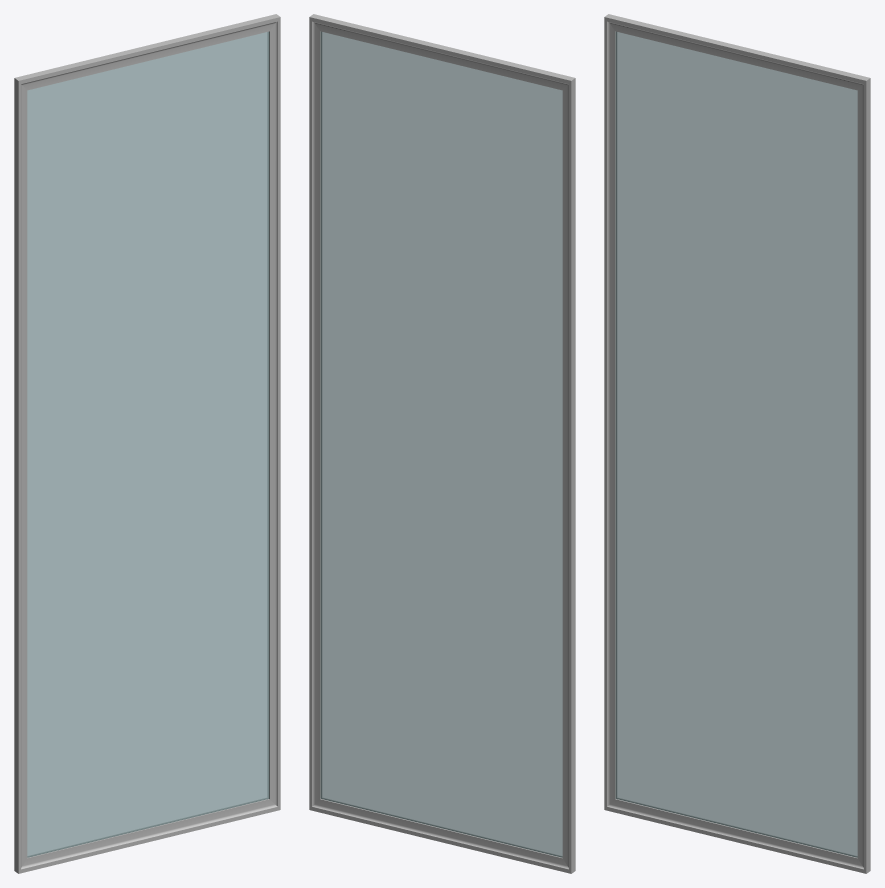
The model's file is SM_Window_01.fbx.
3 views of the same model, side by side, from view 1: azimuth 30°, elevation 25°; view 2: azimuth 150°, elevation 25°; view 3: azimuth 330°, elevation 25° (orthographic).
Parts seen in each view (by area): view 1: SM_Window_01_LOD0; view 2: SM_Window_01_LOD0; view 3: SM_Window_01_LOD0.
Part boxes in pixels (box(x1,y1,x2,y2)): SM_Window_01_LOD0: box(14, 14, 280, 873); SM_Window_01_LOD0: box(309, 14, 575, 873); SM_Window_01_LOD0: box(604, 14, 870, 873).
Size of what is drawn, in the model's own units: 96.8 by 280 by 2.64.
